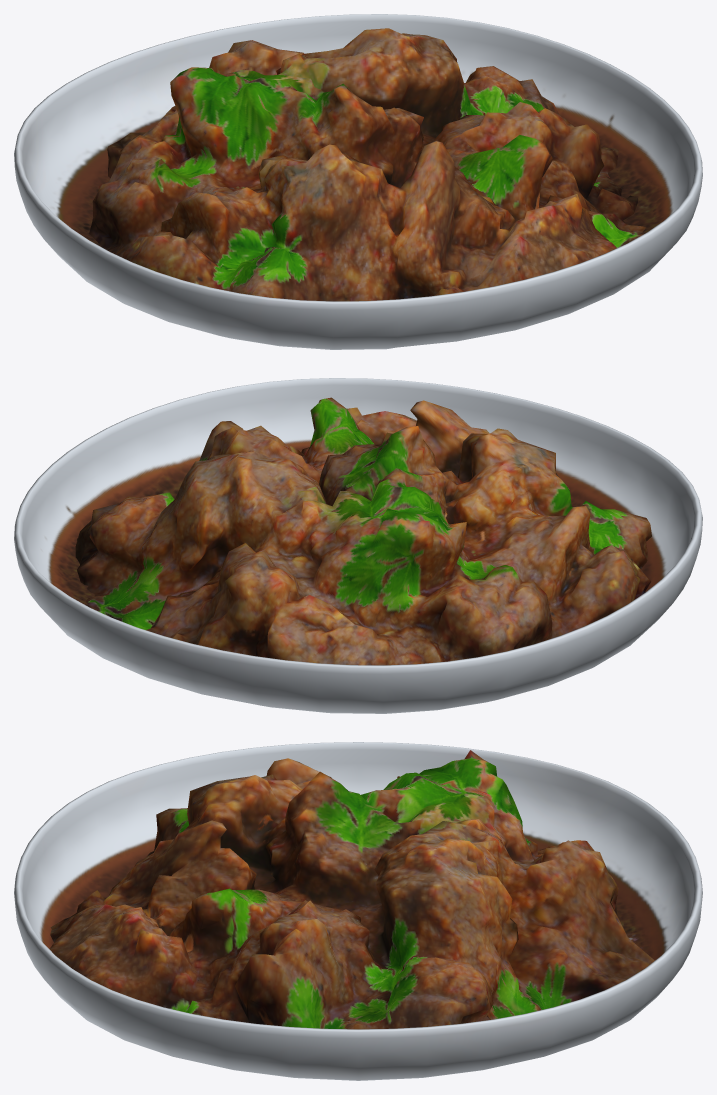
The model's file is Rendang.FBX.
The picture shows the model from 3 angles, top to bottom: view 1: azimuth 30°, elevation 25°; view 2: azimuth 150°, elevation 25°; view 3: azimuth 270°, elevation 25°; orthographic projection. The views are drawn at different scales.
Visible parts, largest first — view 1: Rendang_m; view 2: Rendang_m; view 3: Rendang_m.
Boxes of the visible parts, x1,y1,x2,y2 form: Rendang_m: (14,14,702,349); Rendang_m: (14,378,702,713); Rendang_m: (14,742,702,1080).
Bounding box in the file's own units: 0.1557 × 0.0489 × 0.1557.
